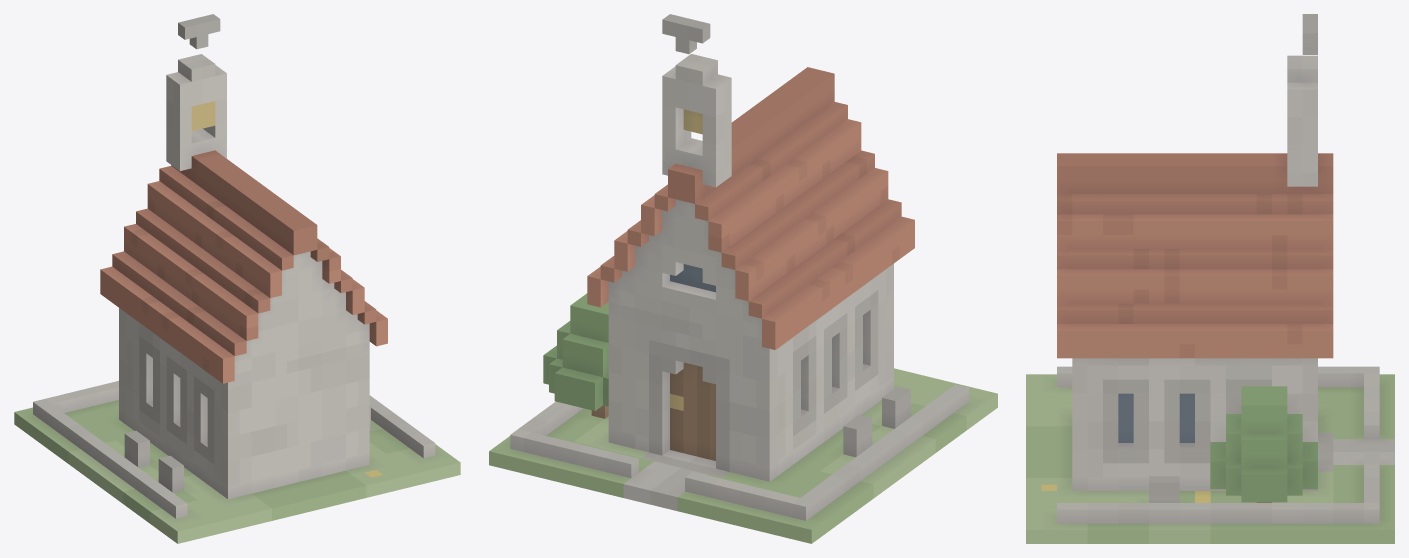
File: chapel.glb
3 views of the same model, side by side, from view 1: azimuth 30°, elevation 25°; view 2: azimuth 150°, elevation 25°; view 3: azimuth 270°, elevation 25° (orthographic). The views are drawn at different scales.
Visible parts, largest first — view 1: chapel; view 2: chapel; view 3: chapel.
Part boxes in pixels (box(x1,y1,x2,y2)): chapel: box(14, 14, 460, 543); chapel: box(489, 14, 997, 543); chapel: box(1026, 14, 1394, 543).
Size of the model in its own units: 3 by 4 by 3.
